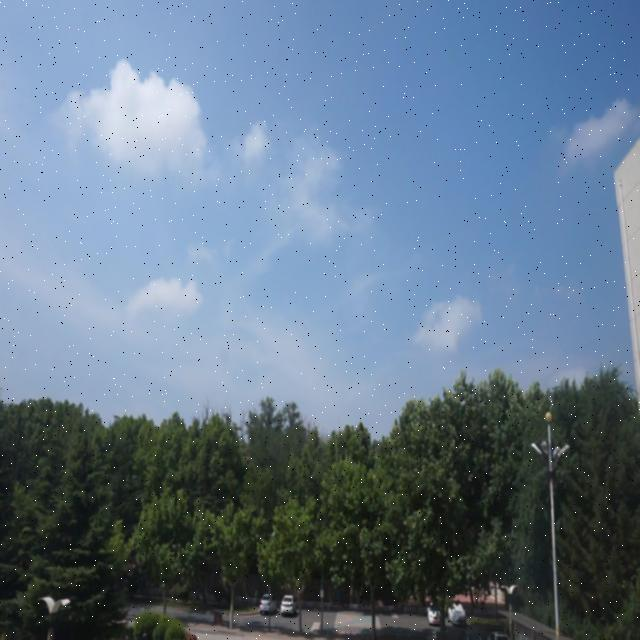UAV: (460, 401, 466, 405)
